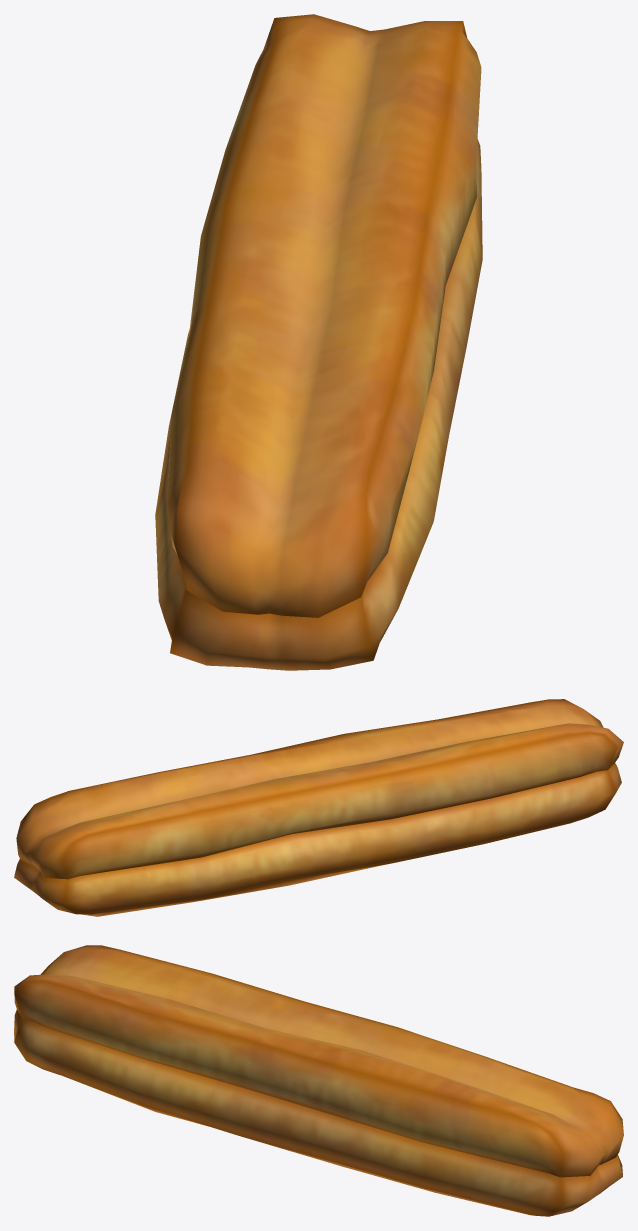
File: BFFriedDoughStick.obj
3 renders of one model, top to bottom at view 1: azimuth 30°, elevation 25°; view 2: azimuth 150°, elevation 25°; view 3: azimuth 270°, elevation 25°, orthographic. The views are drawn at different scales.
Visible parts, largest first — view 1: youTiao; view 2: youTiao; view 3: youTiao.
Part boxes in pixels (bbox=[...]): youTiao: bbox=[155, 14, 482, 670]; youTiao: bbox=[14, 699, 623, 916]; youTiao: bbox=[14, 945, 623, 1216].
Size of the model in its own units: 2.11 by 0.5667 by 2.74.
